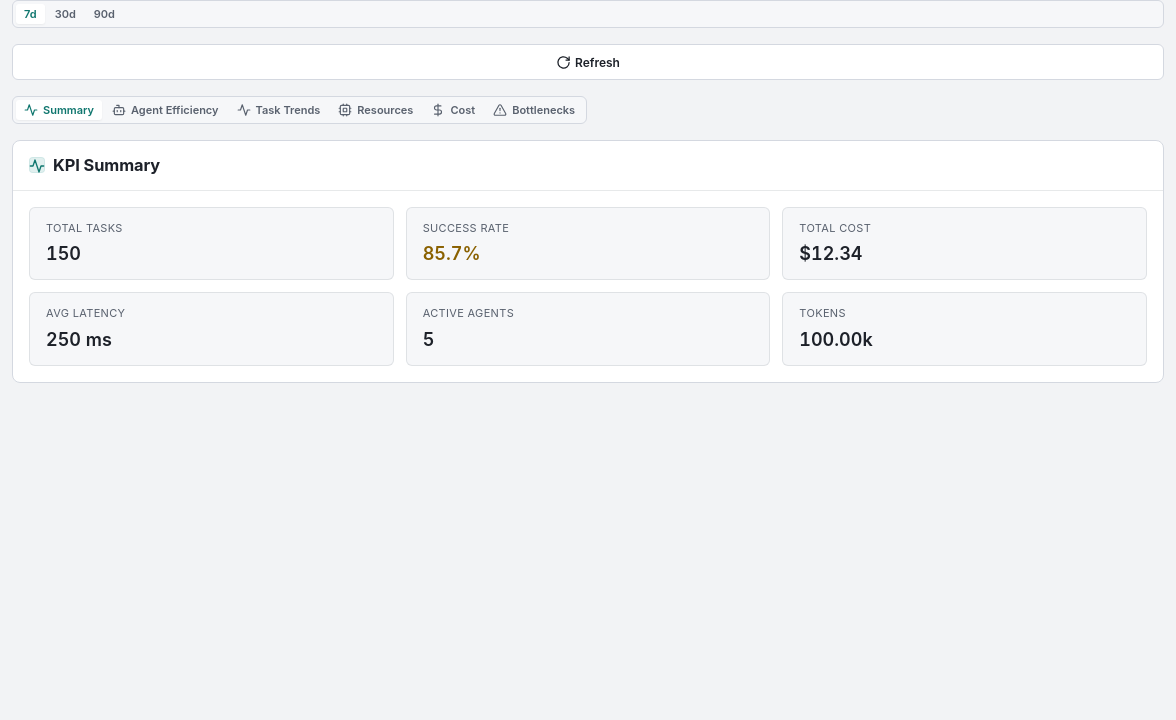
Scenario: Analysis.vue › renders the cost table with the dimension and the dollar value
Click the radio button with class "segmented__item" showing "Cost": (453, 110) [423, 100, 483, 120]
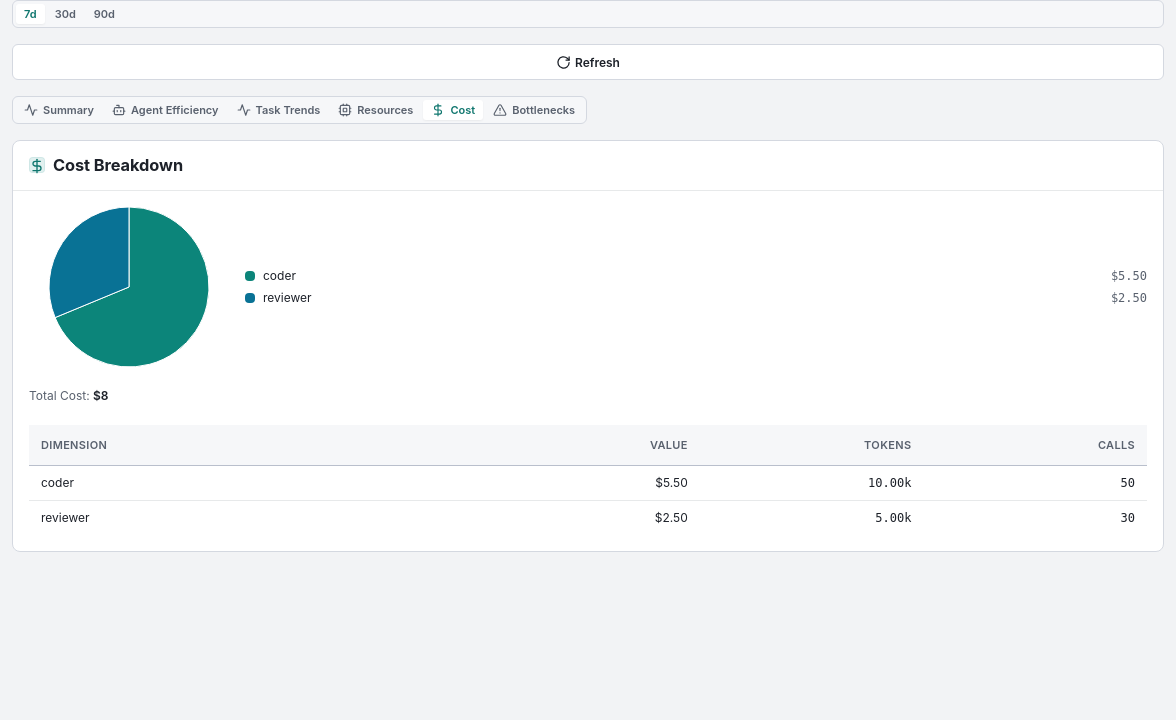
Now the text "coder" is shown, box [263, 268, 296, 283]
Now the text "$5.50" is shown, box [1111, 267, 1147, 285]
Now the text "$2.50" is shown, box [1111, 289, 1147, 307]
